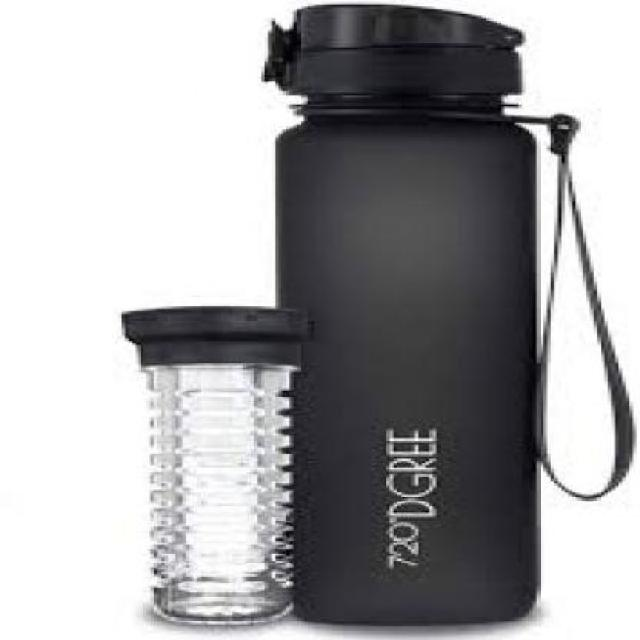Drinking: (208, 0, 572, 620)
